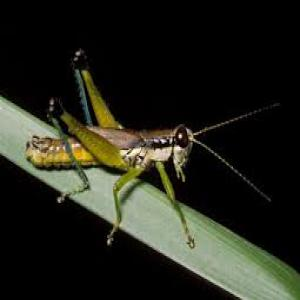locust: (28, 68, 261, 212)
